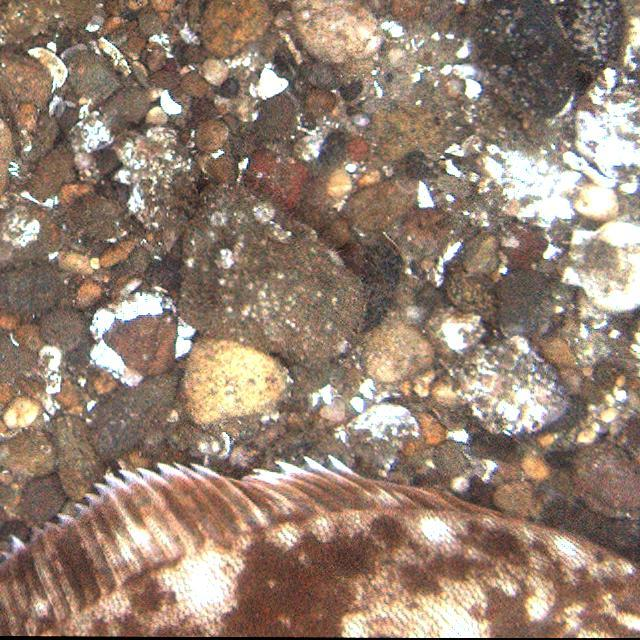flatfish: (0, 465, 640, 639)
